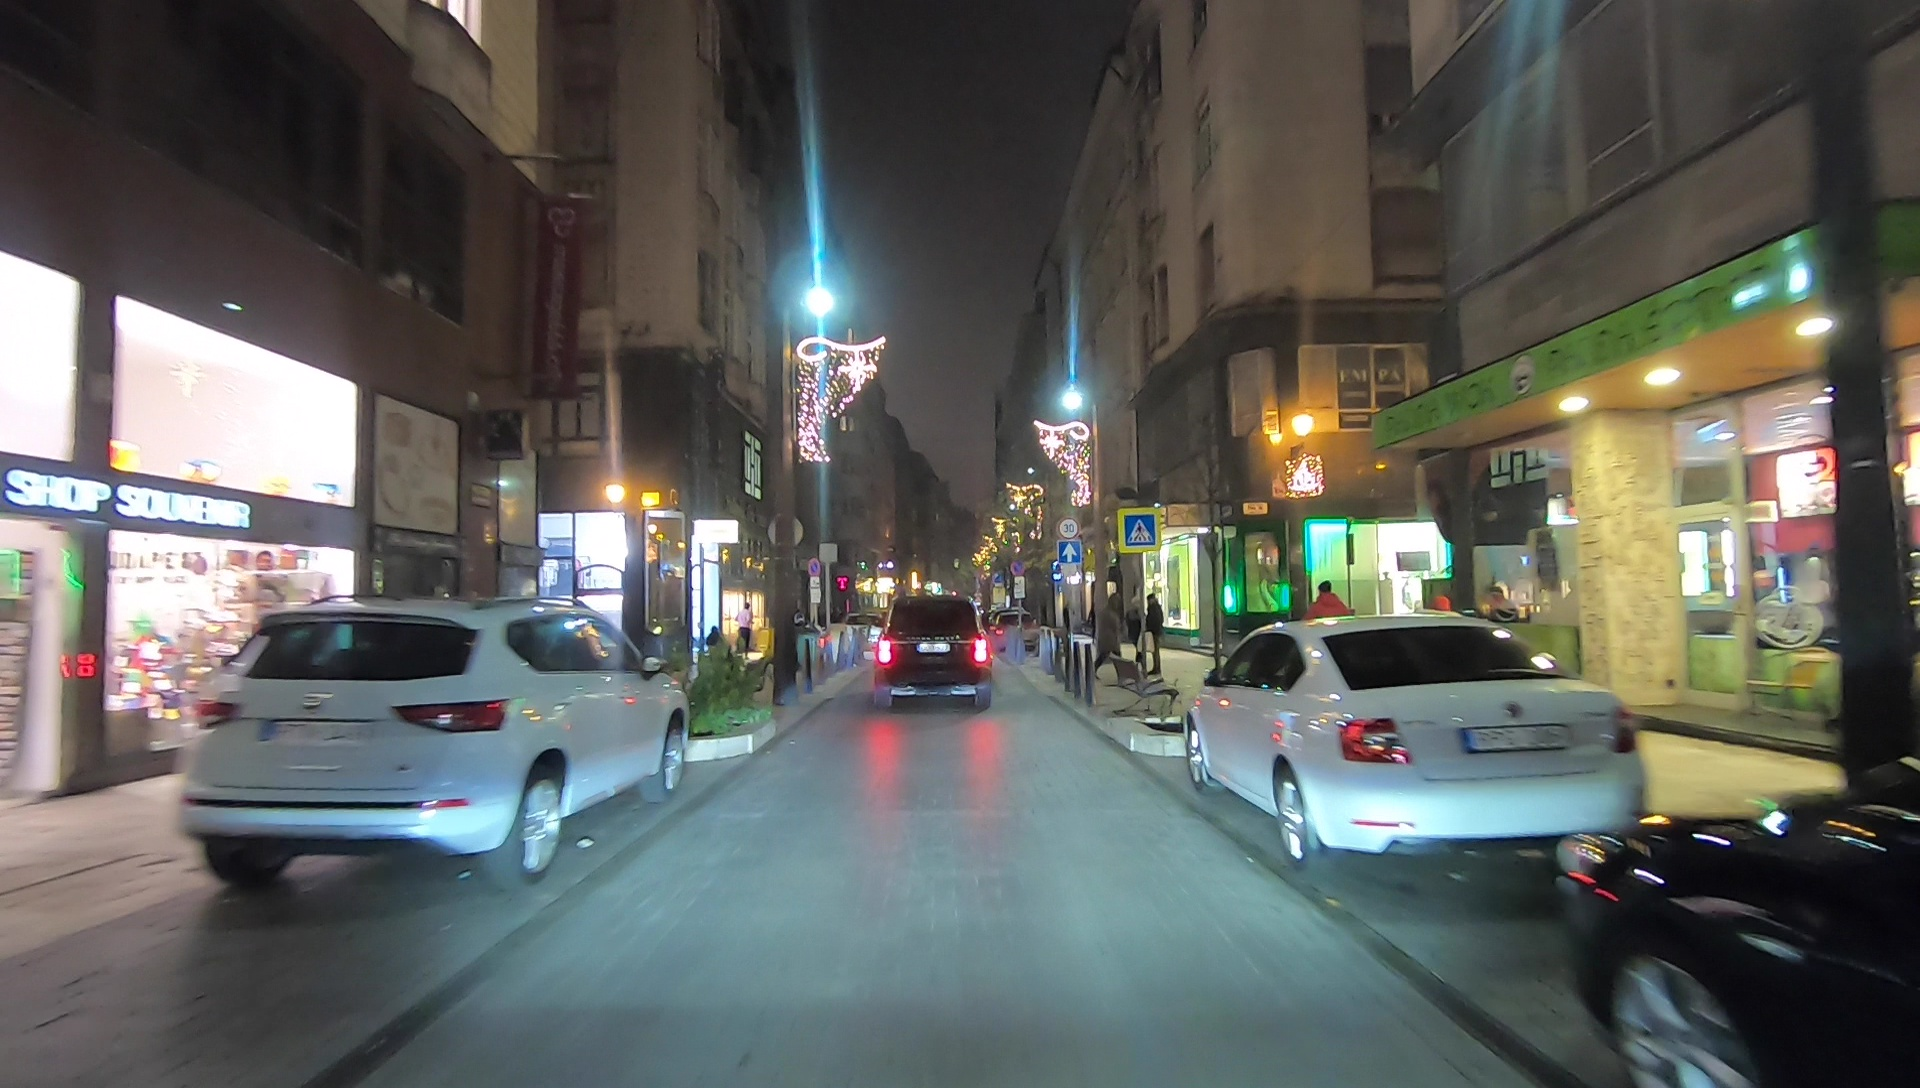person: (1303, 578, 1354, 688), (1091, 592, 1129, 687), (1139, 594, 1164, 679), (734, 602, 753, 658)
